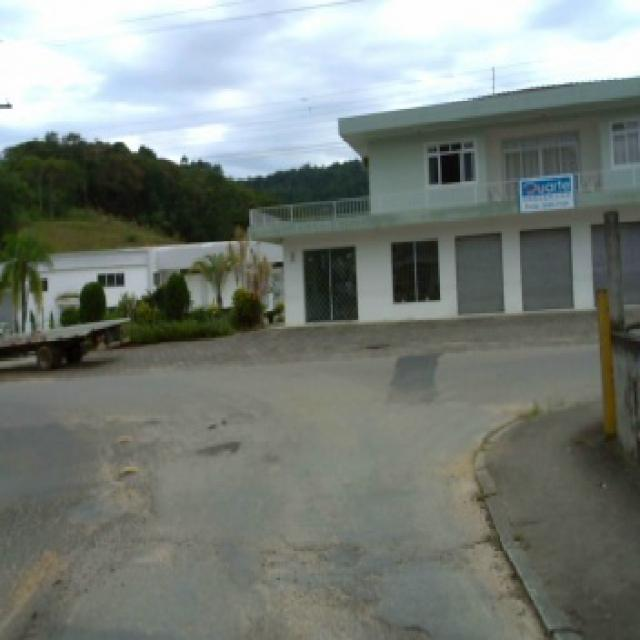Poth-hole: (324, 564, 436, 636), (51, 476, 162, 540), (288, 538, 368, 574), (192, 436, 240, 456), (460, 531, 491, 549), (202, 413, 227, 429), (45, 571, 62, 589), (115, 464, 138, 474), (114, 431, 131, 442), (26, 606, 38, 620), (142, 416, 160, 424)
